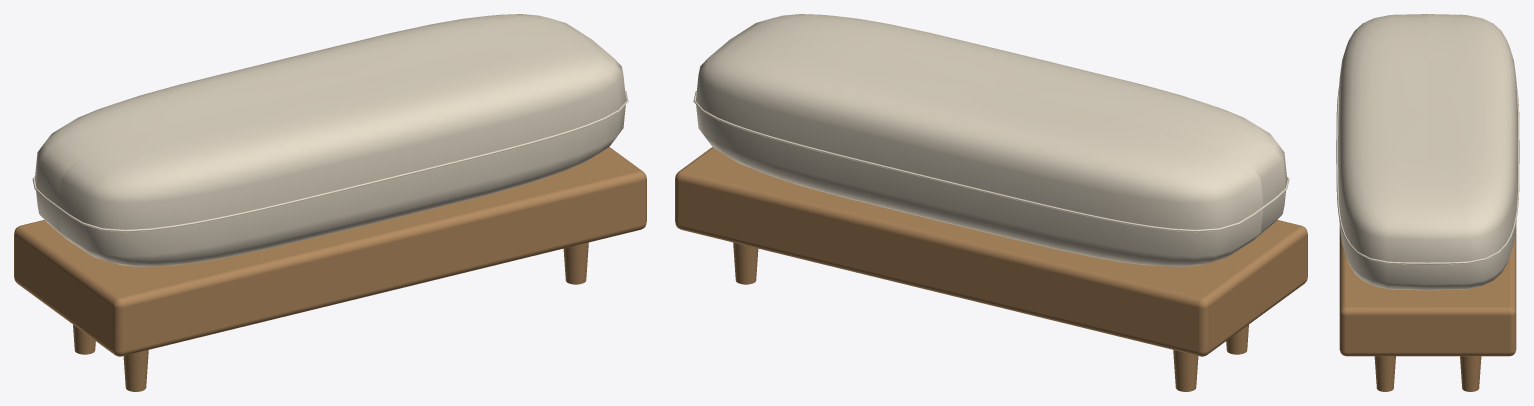
Rendered from bedBench.glb.
The picture shows the model from 3 angles, left to right: view 1: azimuth 30°, elevation 25°; view 2: azimuth 150°, elevation 25°; view 3: azimuth 270°, elevation 25°; orthographic projection. The views are drawn at different scales.
Parts seen in each view (by area): view 1: bedBench-part-6, bedBench-part-5, bedBench-part-7, bedBench-part-4, bedBench-part-2; view 2: bedBench-part-6, bedBench-part-5, bedBench-part-7, bedBench-part-3, bedBench-part-1; view 3: bedBench-part-6, bedBench-part-5, bedBench-part-7, bedBench-part-3, bedBench-part-4.
Part boxes in pixels (<box>): bedBench-part-6: <box>34,14,626,266</box>; bedBench-part-5: <box>14,147,646,356</box>; bedBench-part-7: <box>32,90,628,232</box>; bedBench-part-4: <box>563,242,588,284</box>; bedBench-part-2: <box>123,350,148,391</box>; bedBench-part-6: <box>695,14,1287,266</box>; bedBench-part-5: <box>675,147,1307,356</box>; bedBench-part-7: <box>693,90,1289,232</box>; bedBench-part-3: <box>733,242,758,284</box>; bedBench-part-1: <box>1173,350,1198,391</box>; bedBench-part-6: <box>1338,14,1517,290</box>; bedBench-part-5: <box>1339,227,1516,356</box>; bedBench-part-7: <box>1336,86,1519,264</box>; bedBench-part-3: <box>1460,356,1481,391</box>; bedBench-part-4: <box>1374,356,1395,391</box>.
Bounding box in the file's own units: 1.1 × 0.44 × 0.38.
